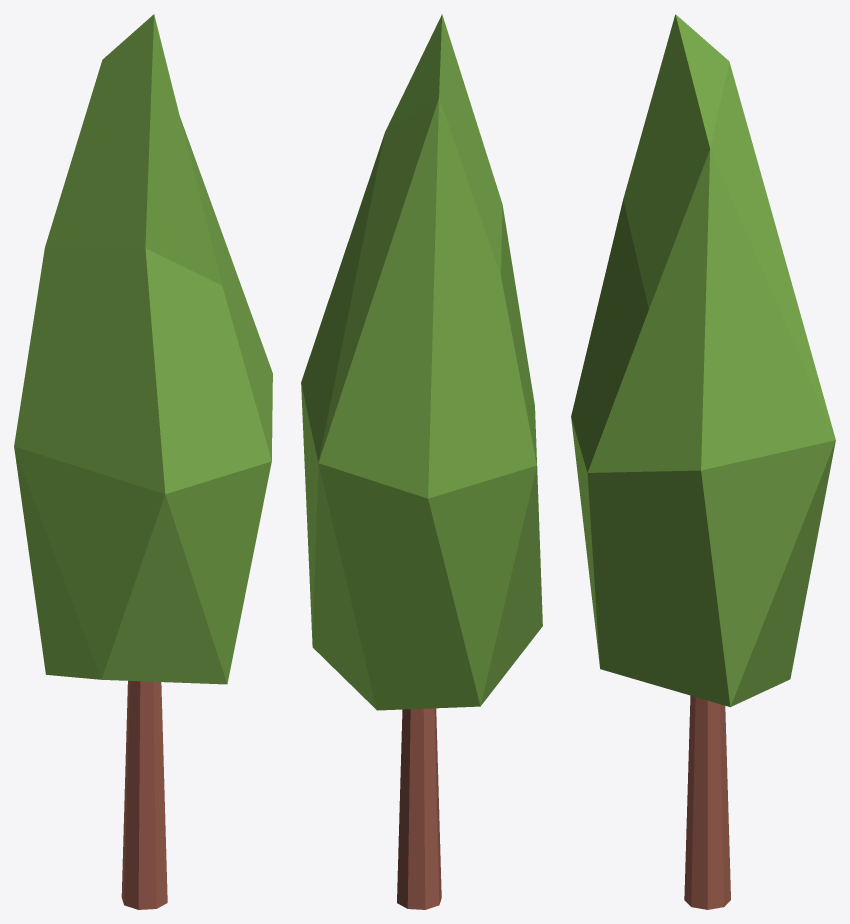
The model's file is tree_15.fbx.
3 views of the same model, side by side, from view 1: azimuth 30°, elevation 25°; view 2: azimuth 150°, elevation 25°; view 3: azimuth 270°, elevation 25° (orthographic). The views are drawn at different scales.
Parts seen in each view (by area): view 1: Cylinder.041; view 2: Cylinder.041; view 3: Cylinder.041.
Boxes of the visible parts, <box> form: Cylinder.041: <box>14,14,272,909</box>; Cylinder.041: <box>301,14,542,909</box>; Cylinder.041: <box>571,14,835,909</box>.
Size of the model in its own units: 202 by 694 by 189.
